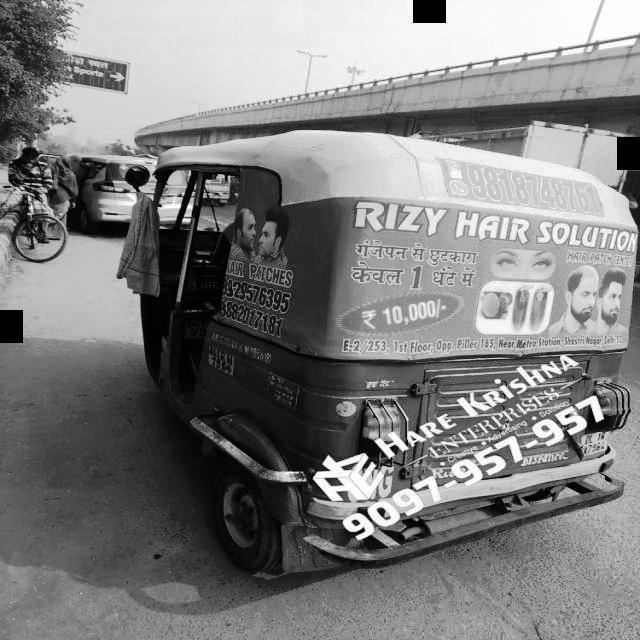Auto-Rickshaw: (139, 139, 635, 581)
